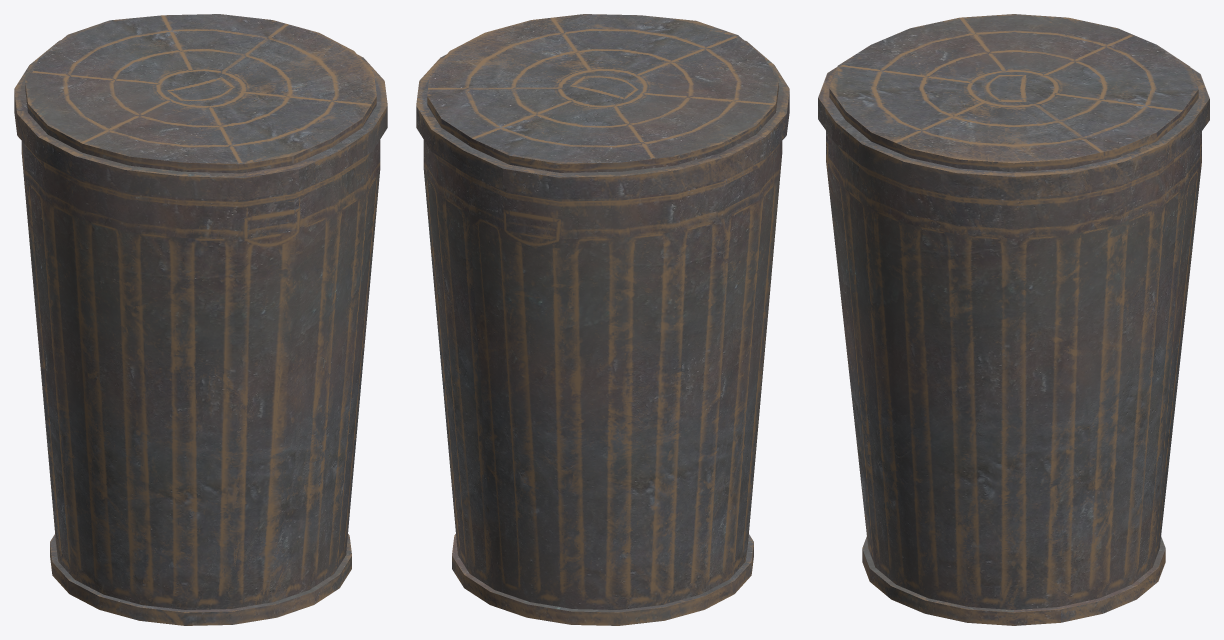
Rendered from lixeira.obj.
3 views of the same model, side by side, from view 1: azimuth 30°, elevation 25°; view 2: azimuth 150°, elevation 25°; view 3: azimuth 270°, elevation 25° (orthographic).
Visible parts, largest first — view 1: Trash_Can_LowP; view 2: Trash_Can_LowP; view 3: Trash_Can_LowP.
Boxes of the visible parts, x1=… form: Trash_Can_LowP: x1=14, y1=14, x2=387, y2=625; Trash_Can_LowP: x1=416, y1=14, x2=789, y2=625; Trash_Can_LowP: x1=818, y1=14, x2=1209, y2=625.
Size of the model in its own units: 8.25 by 11.47 by 8.61.
Materials: 1 (1 with a texture image).
